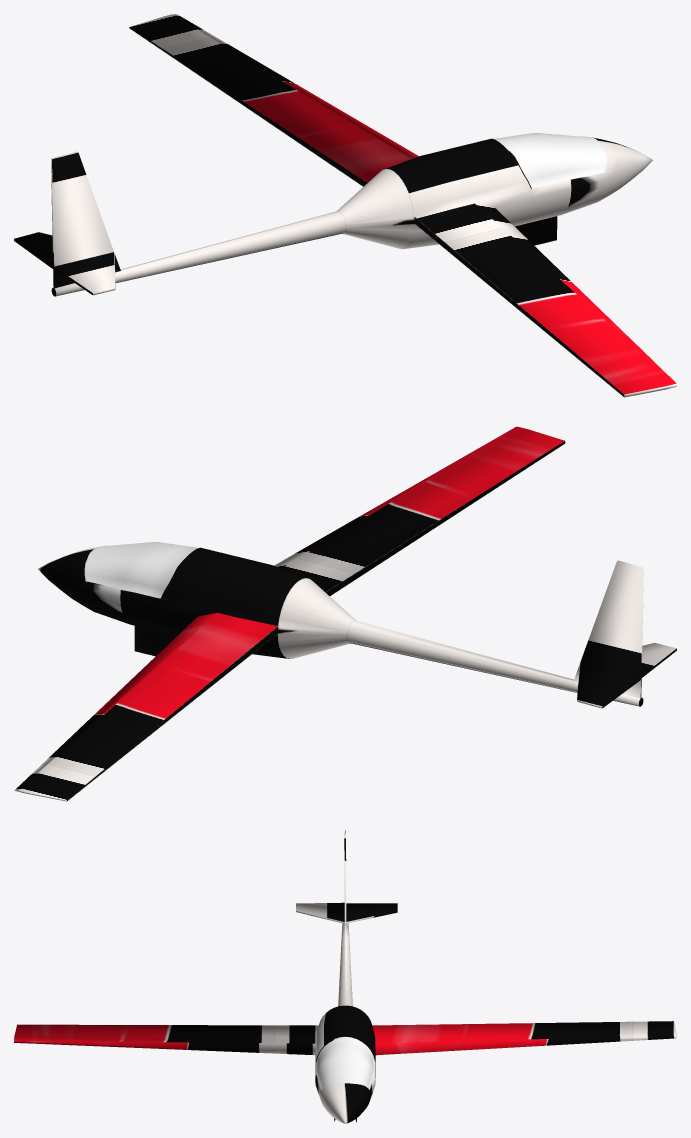
File: testas.gltf
3 views of the same model, one above another, from view 1: azimuth 30°, elevation 25°; view 2: azimuth 150°, elevation 25°; view 3: azimuth 270°, elevation 25° (orthographic). The views are drawn at different scales.
Parts seen in each view (by area): view 1: Cylinder; view 2: Cylinder; view 3: Cylinder.
Part boxes in pixels (x1,y1,x2,y2): Cylinder: [14, 14, 676, 397]; Cylinder: [14, 426, 676, 801]; Cylinder: [14, 830, 676, 1123].
Size of the model in its own units: 15.22 by 4.79 by 21.88.
2 materials, 1 textured.
